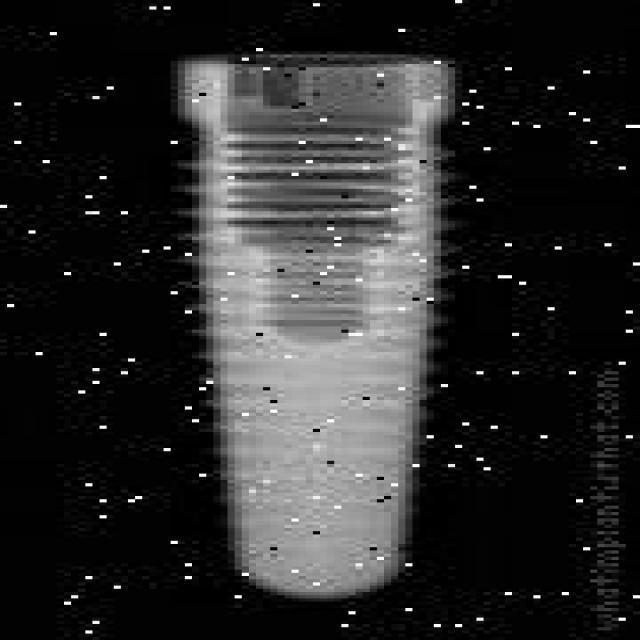Root canal obturation: (162, 57, 462, 606)
